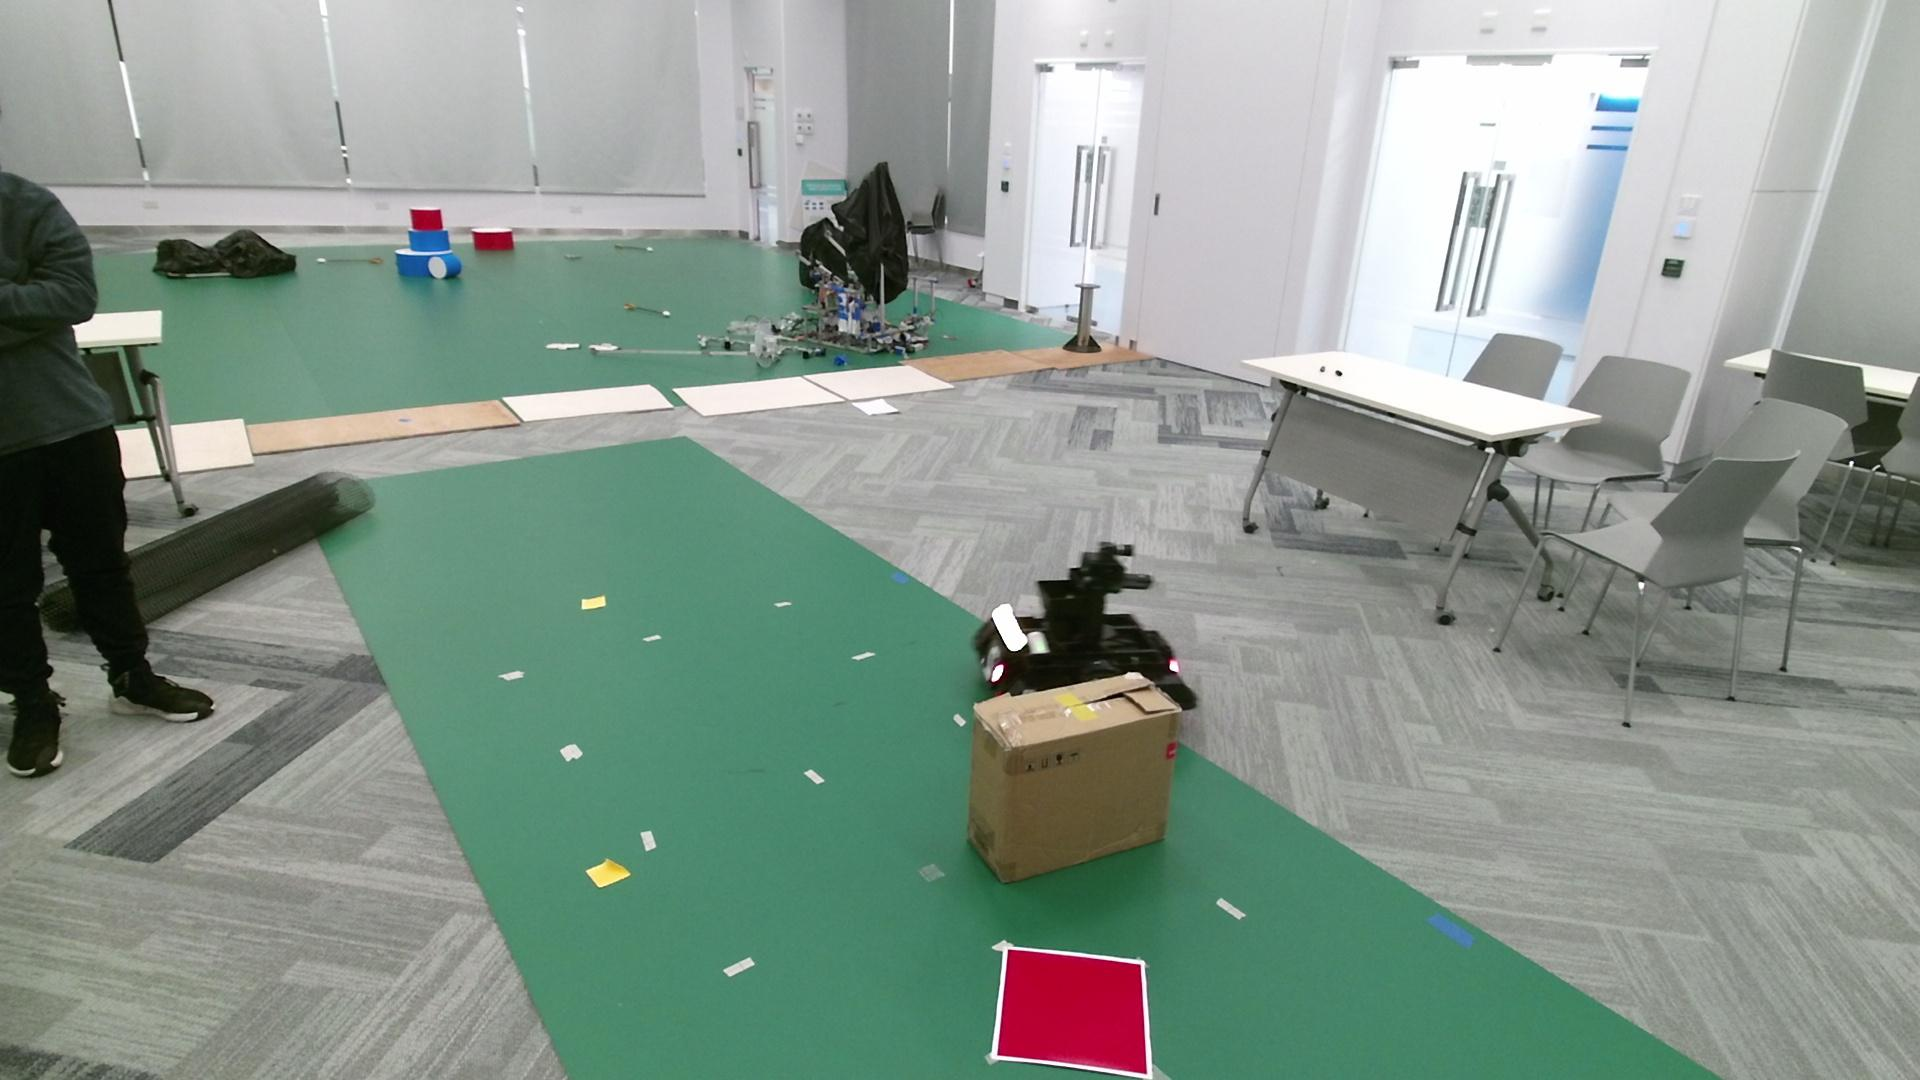robot: (971, 539, 1199, 724)
